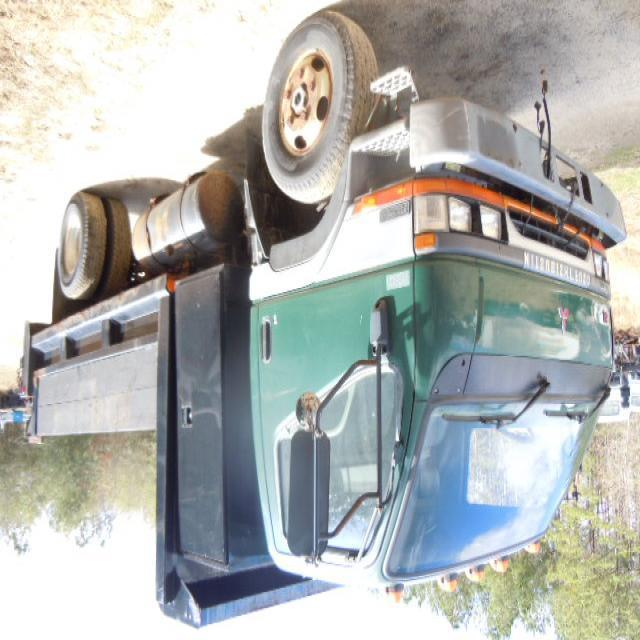truck: (16, 9, 627, 636)
